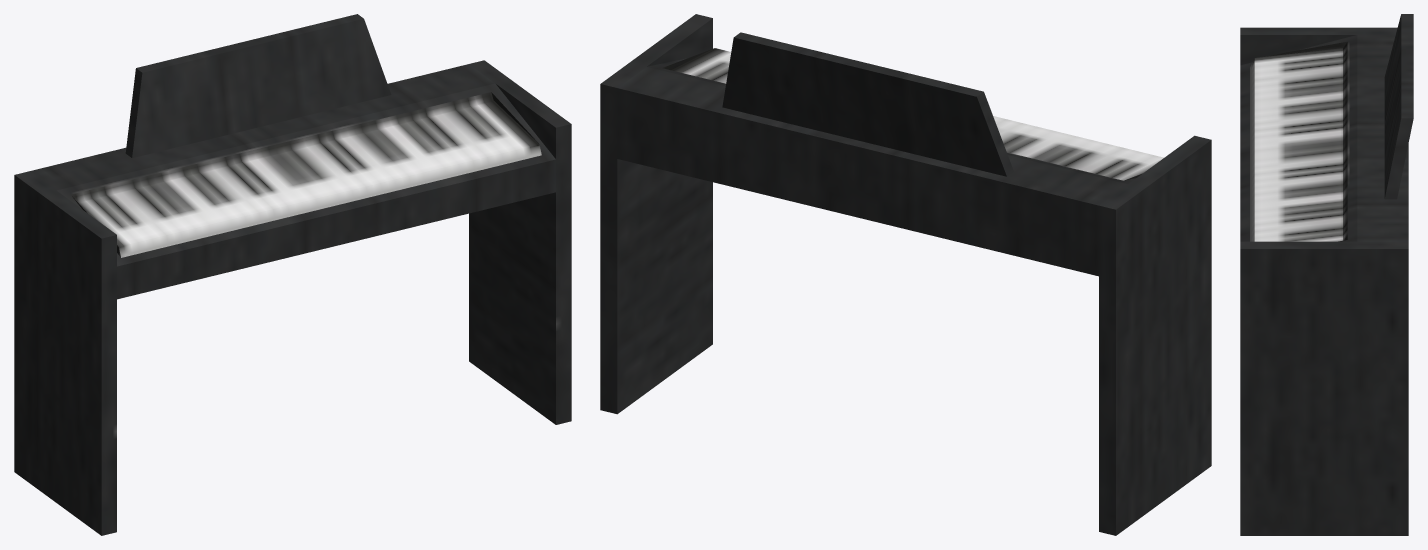
Rendered from int_piano_black.fbx.
The picture shows the model from 3 angles, left to right: view 1: azimuth 30°, elevation 25°; view 2: azimuth 150°, elevation 25°; view 3: azimuth 270°, elevation 25°; orthographic projection. The views are drawn at different scales.
Parts seen in each view (by area): view 1: piano_style1.002; view 2: piano_style1.002; view 3: piano_style1.002.
Boxes of the visible parts, <box> form: piano_style1.002: <box>14,14,571,535</box>; piano_style1.002: <box>600,14,1211,535</box>; piano_style1.002: <box>1240,14,1413,535</box>.
Size of the model in its own units: 202 by 153 by 66.91.
